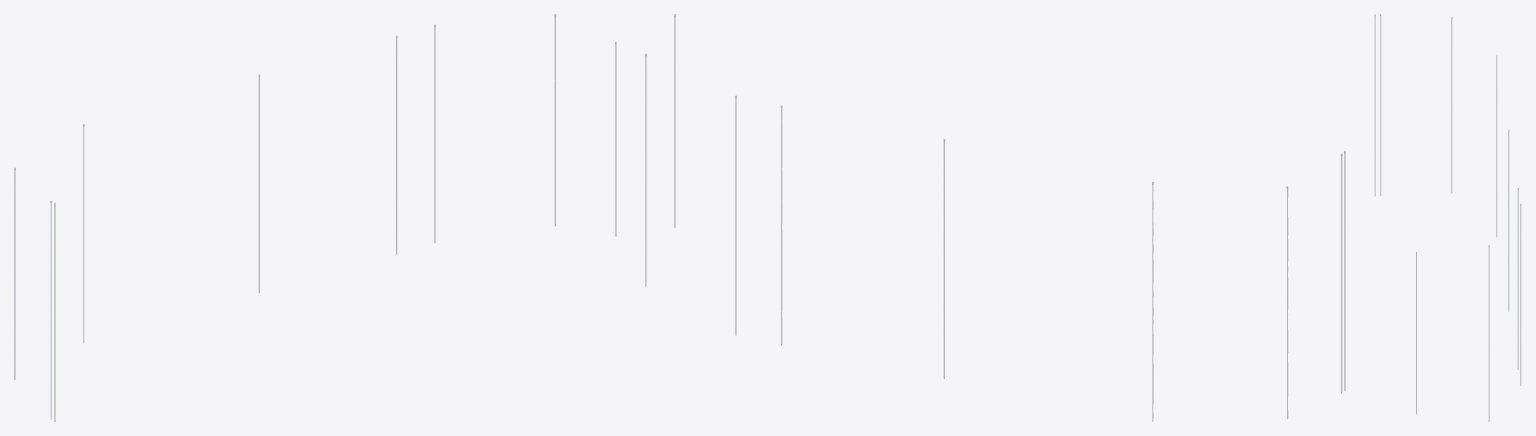
Rendered from Level_04_mep.glb.
3 views of the same model, side by side, from view 1: azimuth 30°, elevation 25°; view 2: azimuth 150°, elevation 25°; view 3: azimuth 270°, elevation 25° (orthographic). The views are drawn at different scales.
Parts seen in each view (by area): view 1: world; view 2: world; view 3: world.
Part boxes in pixels (box(x1,y1,x2,y2)): world: box(14, 14, 616, 421); world: box(645, 14, 1345, 421); world: box(1374, 14, 1521, 421).
Size of the model in its own units: 39.77 by 14.14 by 10.37.
